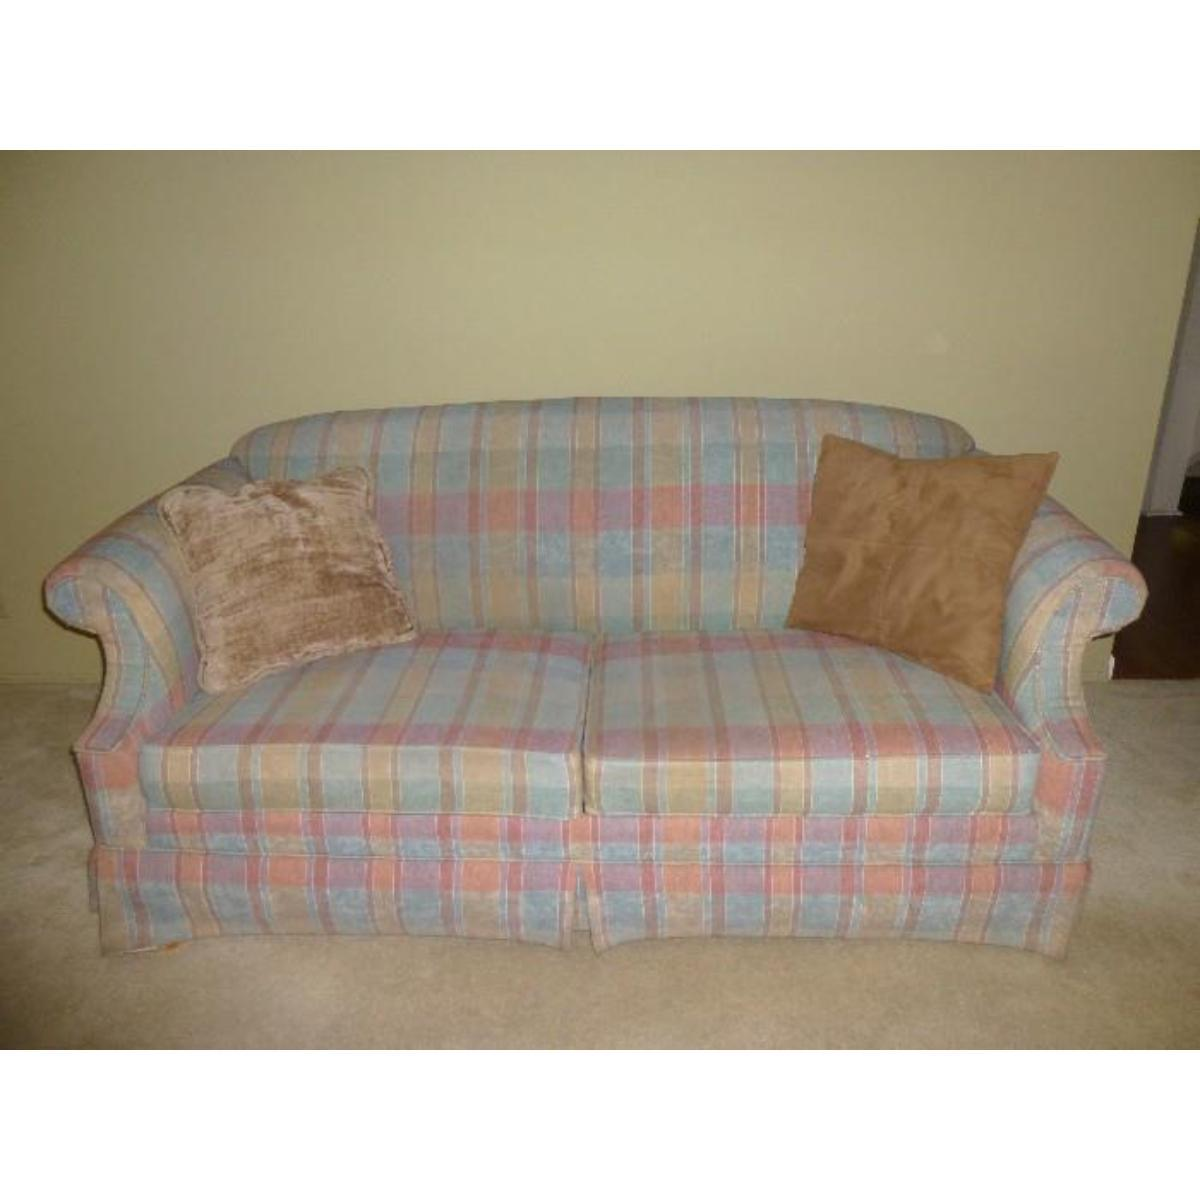Sofa: (41, 396, 1146, 966)
